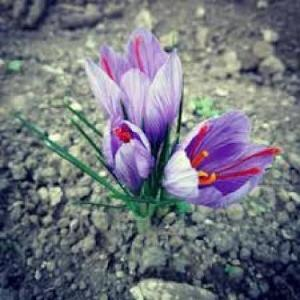Saffron: (88, 29, 179, 156), (156, 112, 273, 209), (101, 106, 153, 200)
